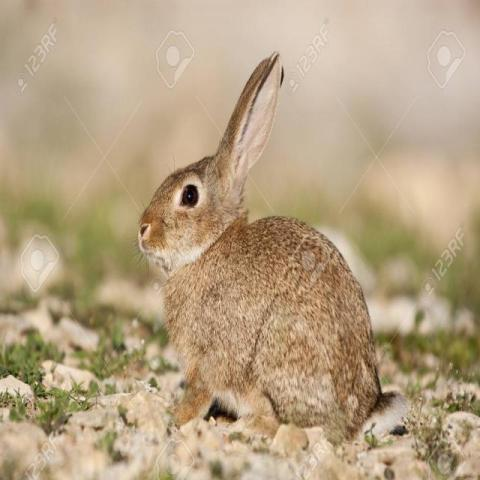small_animal: (134, 49, 410, 448)
